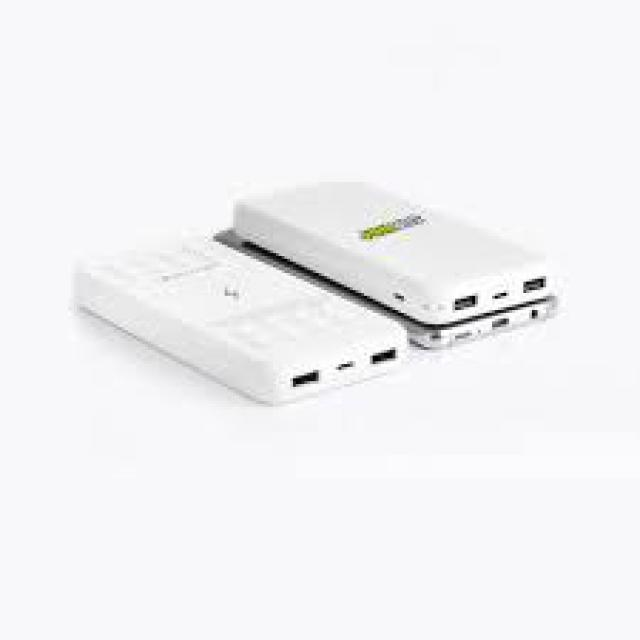power_bank: (72, 228, 415, 414), (236, 175, 558, 316)
